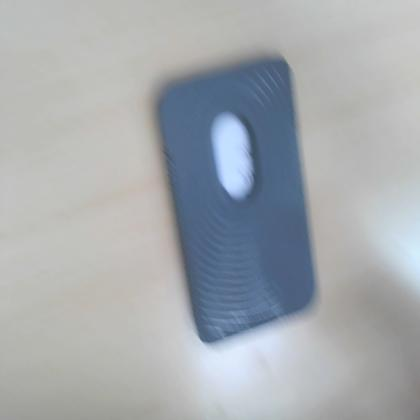pics: (158, 58, 314, 342)
